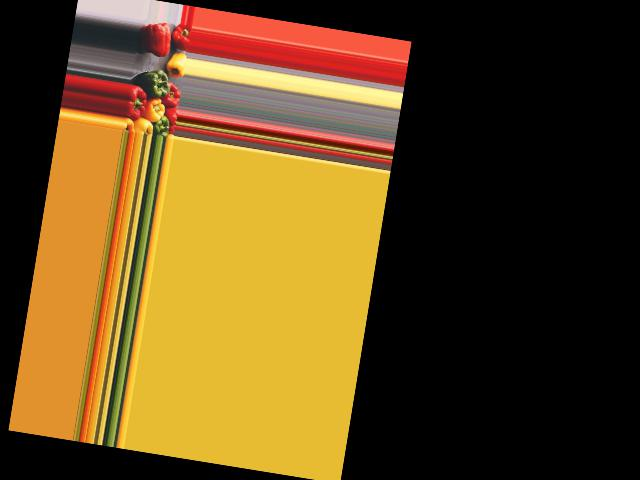bell_pepper: (170, 22, 190, 51)
